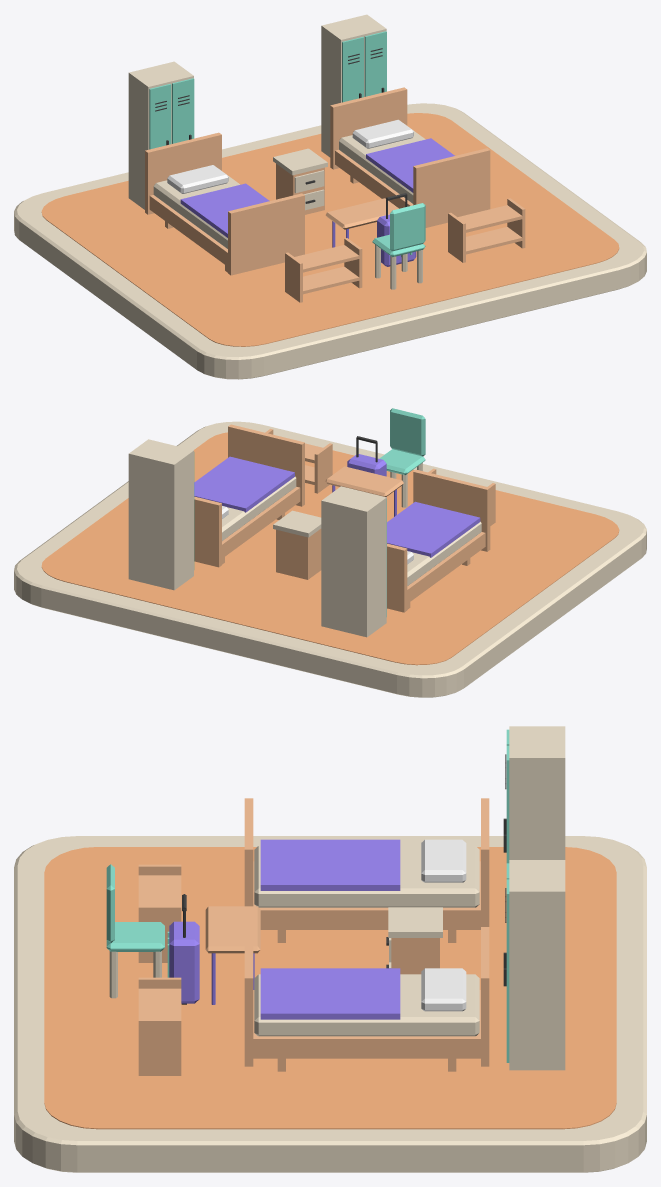
The picture shows the model from 3 angles, top to bottom: view 1: azimuth 30°, elevation 25°; view 2: azimuth 150°, elevation 25°; view 3: azimuth 270°, elevation 25°; orthographic projection. The views are drawn at different scales.
Visible parts, largest first — view 1: COM-02 Floor Surface, COM-01 Rounded Base Direct, End board, End board.002, Case, Case.001, End board.003, End board.001, Blanket.001, Blanket, Backrest, Mattress (+19 smaller); view 2: COM-02 Floor Surface, COM-01 Rounded Base Direct, Case, Case.001, Blanket.001, Blanket, End board, End board.002, Body, End board.003, Backrest, Frame (+9 smaller); view 3: COM-02 Floor Surface, COM-01 Rounded Base Direct, Case.001, Case, Blanket.001, Blanket, Mattress.001, Mattress, Frame.001, Frame, Side.003, Rounded table top (+15 smaller).
Boxes of the visible parts, x1,y1,x2,y2 form: COM-02 Floor Surface: (41,113,619,346); COM-01 Rounded Base Direct: (14,103,646,379); End board: (228,193,304,275); End board.002: (413,148,490,227); Case: (128,61,193,209); Case.001: (321,14,386,157); End board.003: (330,87,407,169); End board.001: (145,132,221,214); Blanket.001: (366,138,454,192); Blanket: (180,183,269,237); Backrest: (390,203,425,251); Mattress: (153,170,239,248); COM-02 Floor Surface: (41,432,619,665); COM-01 Rounded Base Direct: (14,421,646,697); Case: (321,486,386,637); Case.001: (128,439,193,590); Blanket.001: (194,456,294,512); Blanket: (387,501,480,557); End board: (413,469,490,551); End board.002: (228,424,304,506); Body: (276,529,321,579); End board.003: (194,496,221,567); Backrest: (390,408,425,456); Frame: (407,532,485,603); COM-02 Floor Surface: (44,847,616,1129); COM-01 Rounded Base Direct: (14,836,646,1172); Case.001: (509,860,565,1070); Case: (509,726,565,859); Blanket.001: (260,968,400,1019); Blanket: (260,839,400,890); Mattress.001: (254,974,479,1036); Mattress: (254,845,479,907); Frame.001: (253,990,480,1058); Frame: (253,861,480,929); Side.003: (138,1019,181,1075); Rounded table top: (205,906,260,953).
Bounding box in the file's own units: 6 × 1.92 × 5.2.
Materials: 1 (1 with a texture image).
